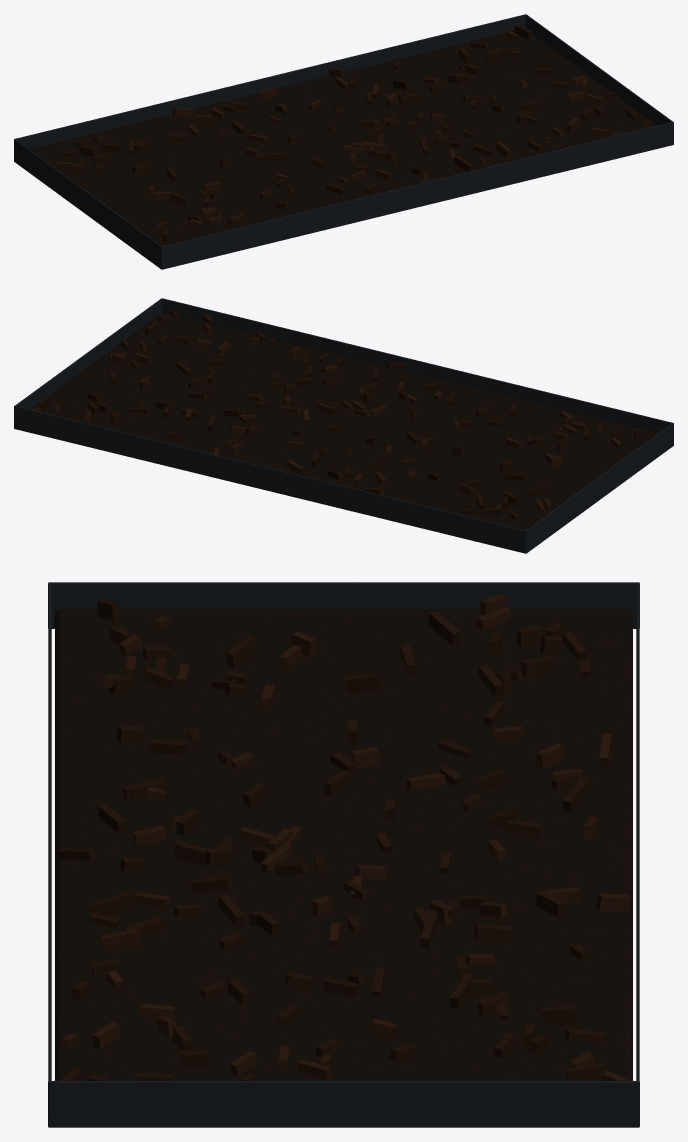
The model's file is MulchBedSection.gltf.
The picture shows the model from 3 angles, top to bottom: view 1: azimuth 30°, elevation 25°; view 2: azimuth 150°, elevation 25°; view 3: azimuth 270°, elevation 25°; orthographic projection. The views are drawn at different scales.
Parts seen in each view (by area): view 1: MulchBedSection__Body; view 2: MulchBedSection__Body; view 3: MulchBedSection__Body.
Boxes of the visible parts, x1,y1,x2,y2 form: MulchBedSection__Body: [14, 14, 673, 269]; MulchBedSection__Body: [14, 298, 673, 553]; MulchBedSection__Body: [48, 582, 639, 1127].
Size of the model in its own units: 2.41 by 0.112 by 1.2.
1 material, 1 textured.
